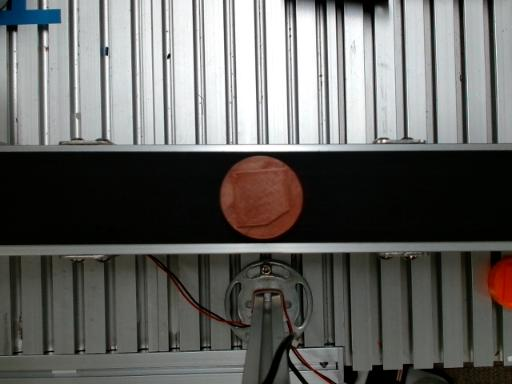Brown_Waper: (220, 156, 302, 239)
Not_Square: (231, 167, 289, 228)
